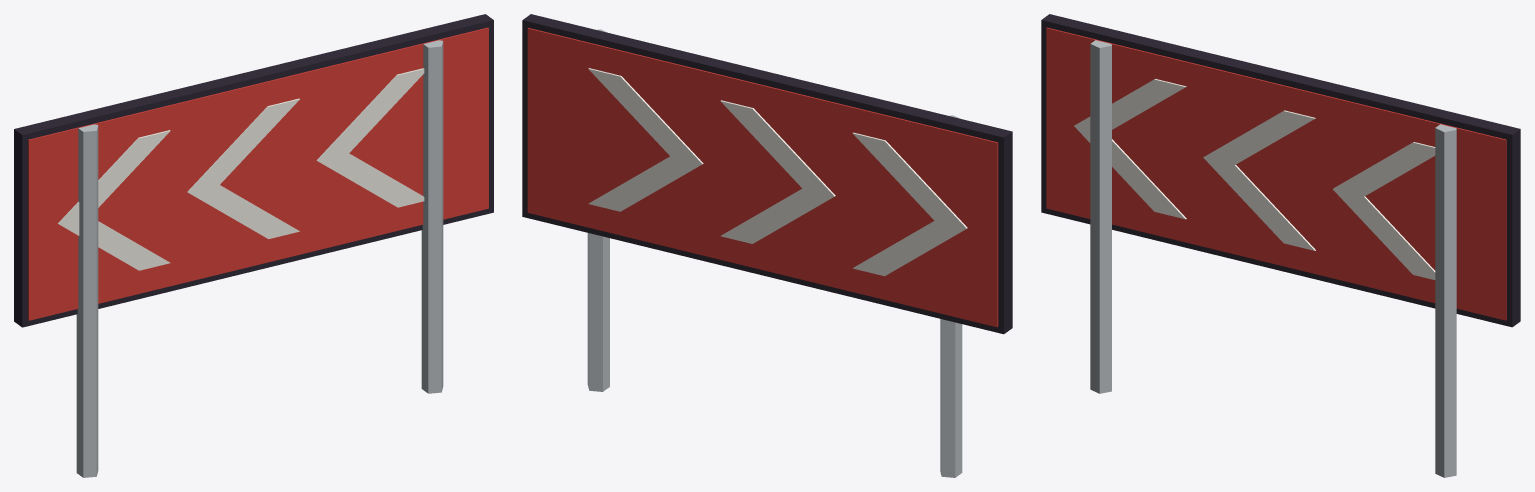
Rendered from chevron_right.glb.
The picture shows the model from 3 angles, left to right: view 1: azimuth 30°, elevation 25°; view 2: azimuth 150°, elevation 25°; view 3: azimuth 330°, elevation 25°; orthographic projection. The views are drawn at different scales.
Visible parts, largest first — view 1: chevron_right; view 2: chevron_right; view 3: chevron_right.
Boxes of the visible parts, x1,y1,x2,y2 form: chevron_right: (14,14,493,477); chevron_right: (522,14,1012,477); chevron_right: (1041,14,1520,477).
Bounding box in the file's own units: 1.64 × 1.17 × 0.1093.
